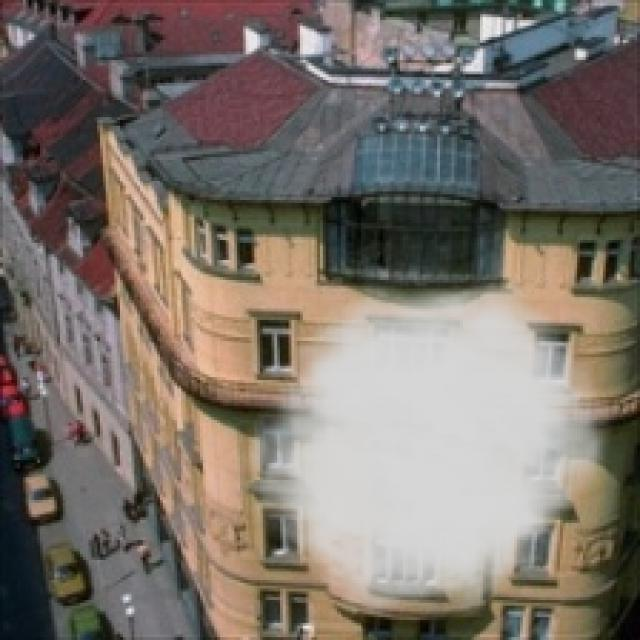smoke: (234, 266, 623, 617)
